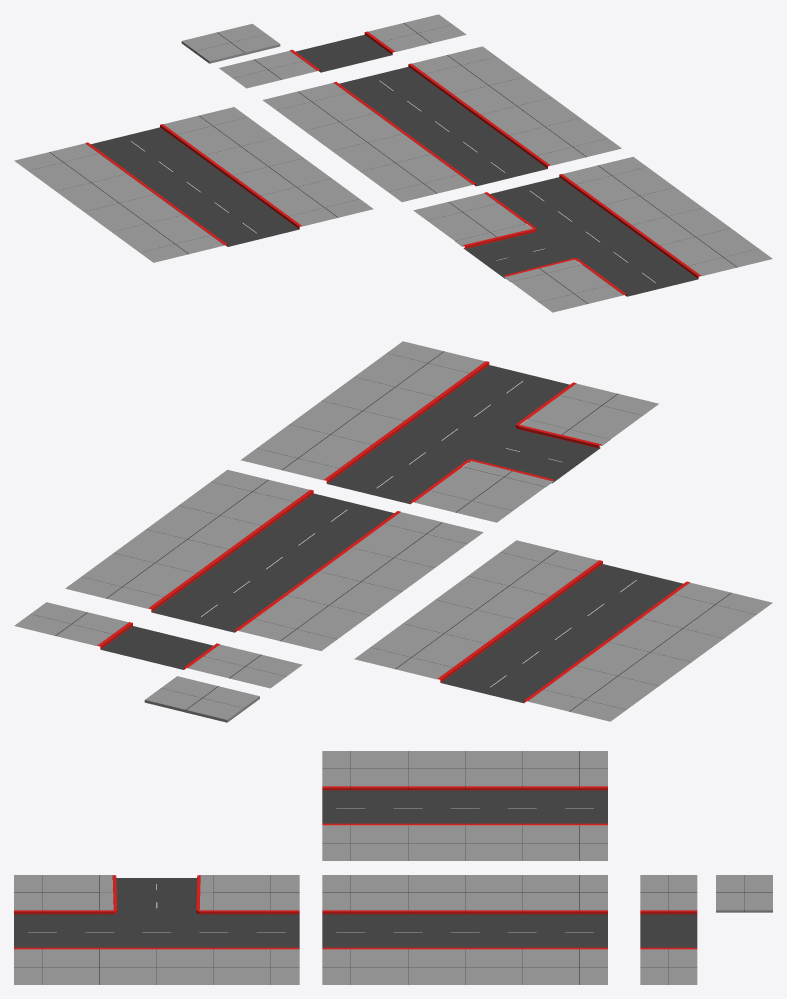
File: road and path_modular 1.fbx
3 renders of one model, top to bottom at view 1: azimuth 30°, elevation 25°; view 2: azimuth 150°, elevation 25°; view 3: azimuth 270°, elevation 25°, orthographic. The views are drawn at different scales.
Parts seen in each view (by area): view 1: Plane.003, Plane.002, Plane.006, Plane, Plane.001; view 2: Plane.003, Plane.006, Plane.002, Plane, Plane.001; view 3: Plane.002, Plane.006, Plane.003, Plane, Plane.001.
Boxes of the visible parts, bbox=[...] form: Plane.003: bbox=[413, 156, 772, 312]; Plane.002: bbox=[262, 46, 621, 202]; Plane.006: bbox=[14, 107, 373, 262]; Plane: bbox=[219, 14, 466, 88]; Plane.001: bbox=[181, 23, 280, 63]; Plane.003: bbox=[240, 341, 658, 522]; Plane.006: bbox=[354, 540, 772, 721]; Plane.002: bbox=[65, 469, 483, 650]; Plane: bbox=[14, 602, 302, 688]; Plane.001: bbox=[144, 676, 259, 722]; Plane.002: bbox=[322, 875, 607, 984]; Plane.006: bbox=[322, 751, 607, 860]; Plane.003: bbox=[14, 875, 299, 984]; Plane: bbox=[640, 875, 697, 984]; Plane.001: bbox=[716, 875, 772, 912].
Size of the model in its own units: 4930 by 27.24 by 6763.
